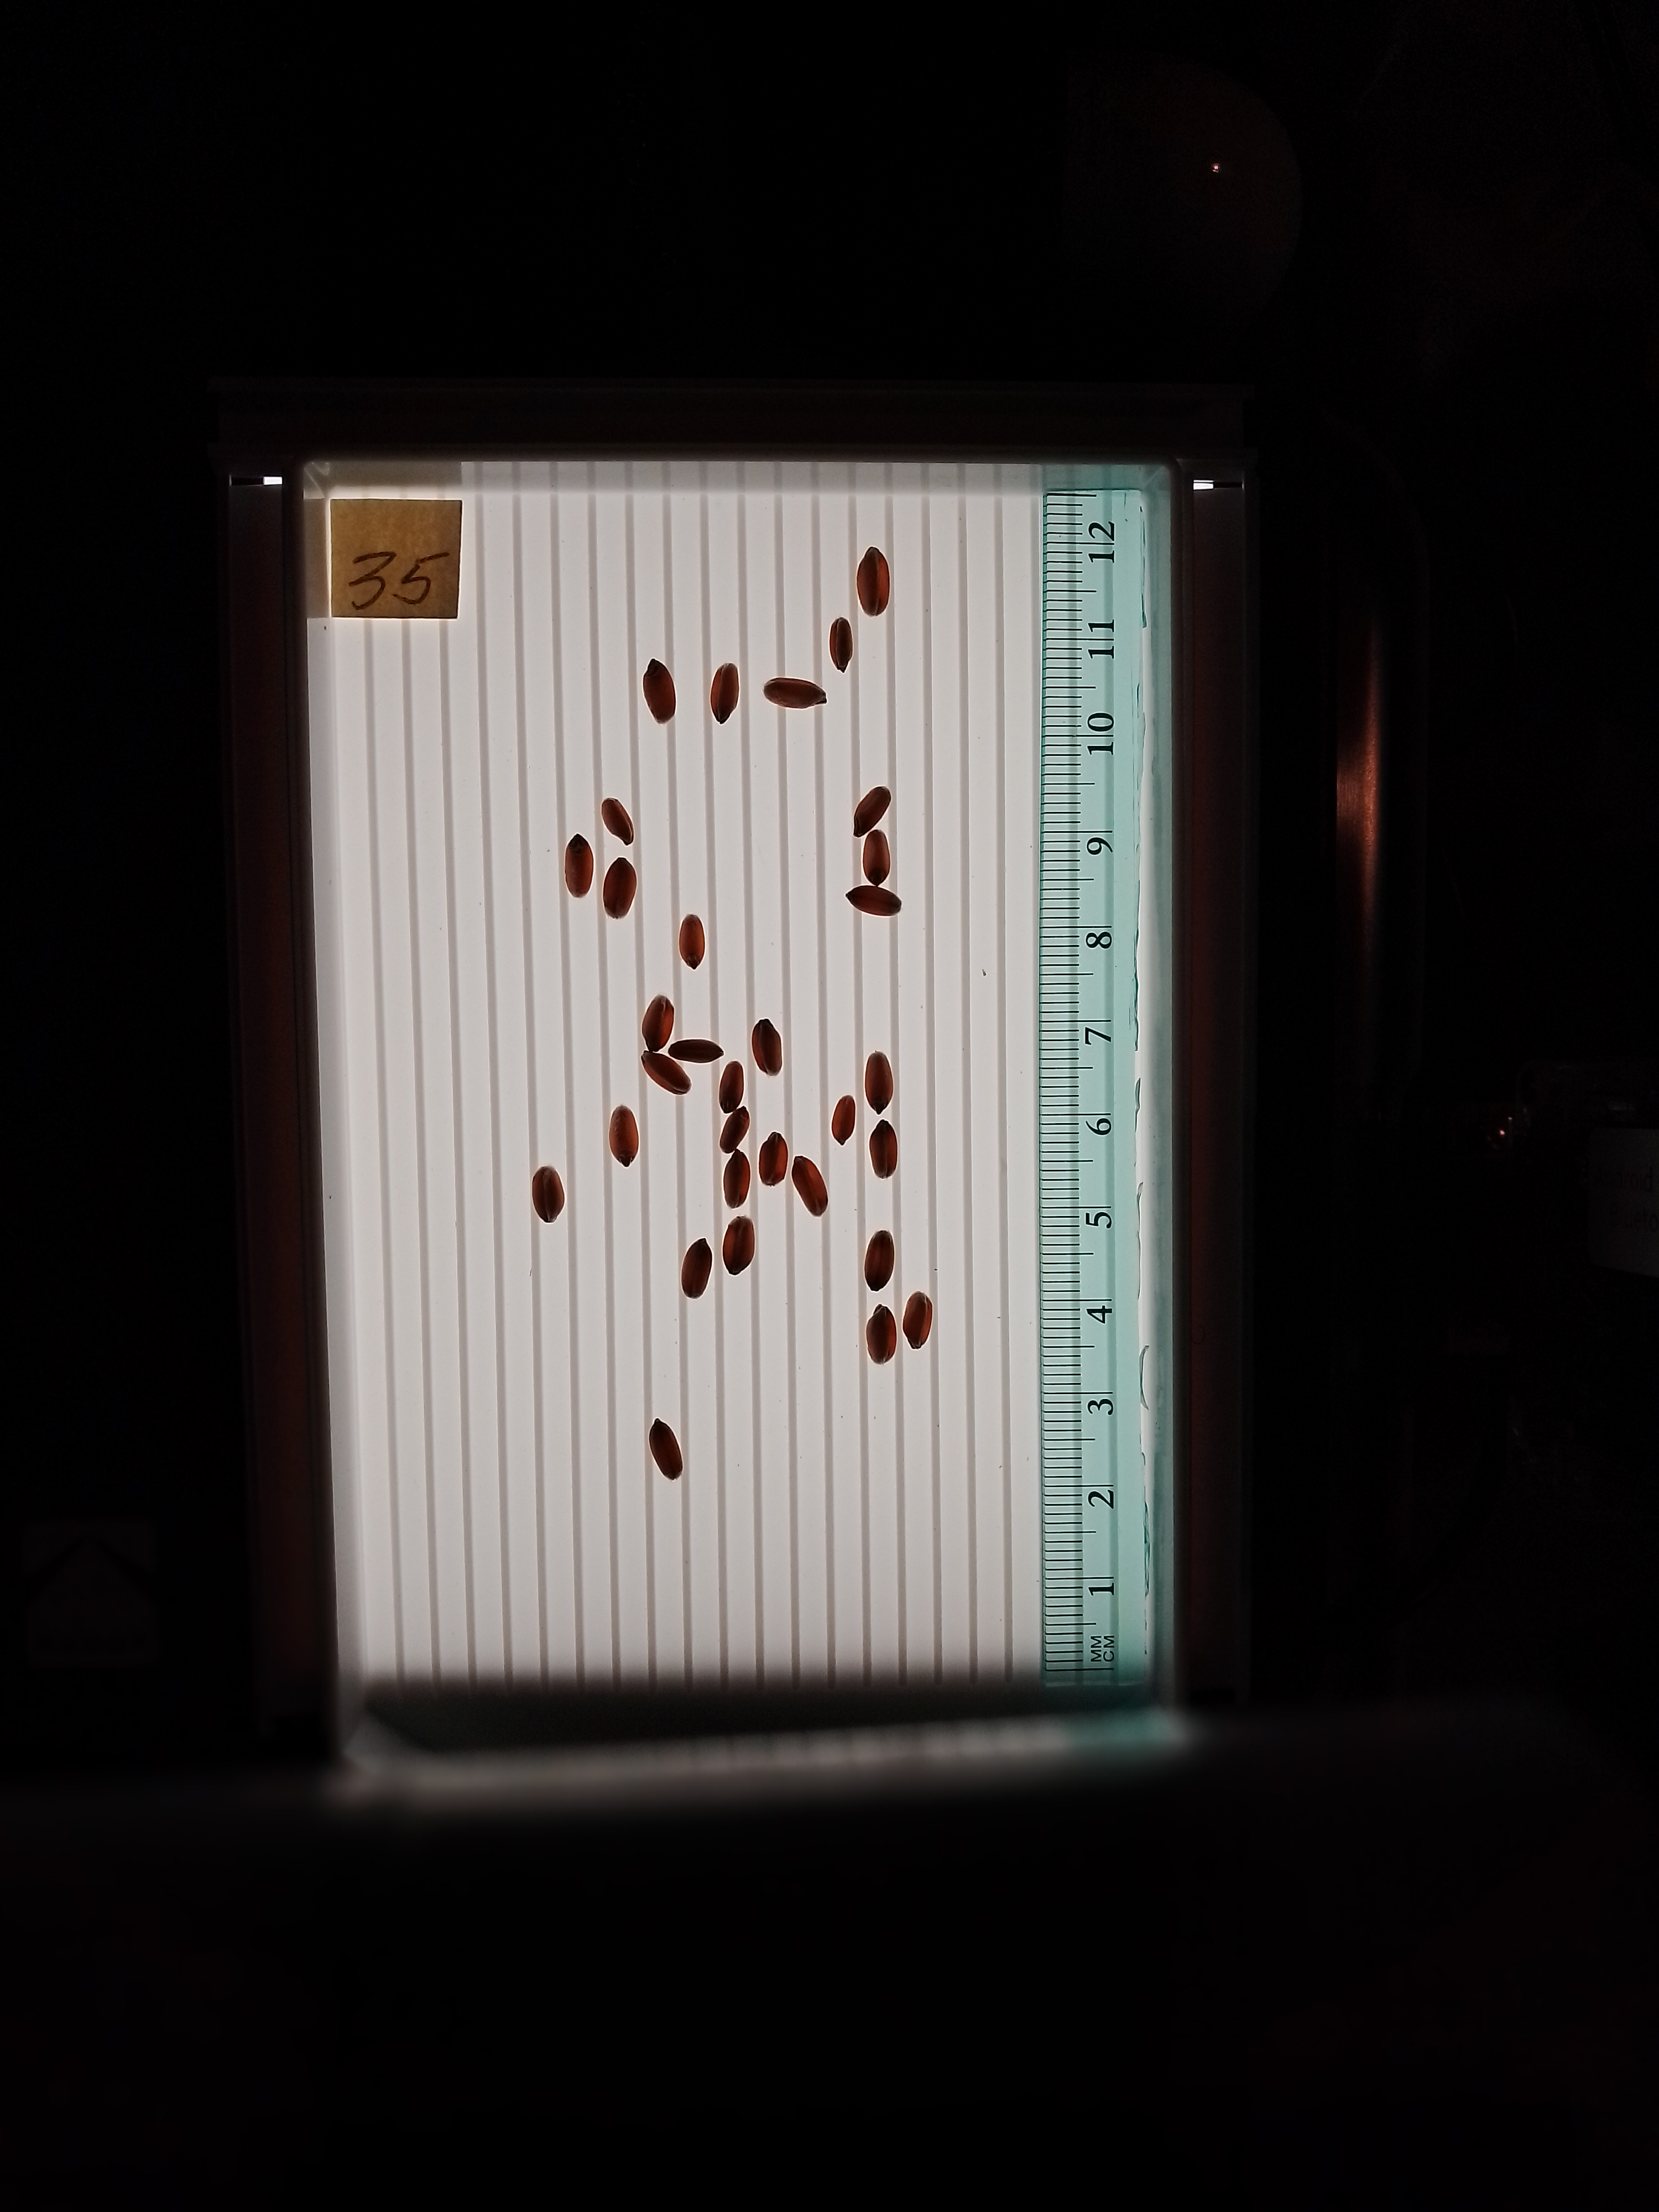seed mask: (856, 547, 890, 618), (641, 658, 676, 725), (640, 1050, 692, 1094), (791, 1157, 828, 1217), (648, 1420, 683, 1480), (603, 857, 636, 920), (762, 678, 828, 709), (532, 1167, 566, 1224), (608, 1106, 640, 1169), (565, 833, 594, 899), (641, 995, 676, 1050), (854, 786, 890, 838), (681, 1238, 713, 1299), (864, 1052, 894, 1115), (866, 1305, 897, 1364), (709, 664, 739, 726), (866, 1230, 896, 1292), (723, 1217, 755, 1275), (751, 1019, 782, 1075), (845, 885, 901, 916), (601, 798, 634, 848), (723, 1150, 751, 1209), (904, 1291, 932, 1350), (870, 1120, 897, 1179), (758, 1132, 788, 1186), (863, 831, 890, 887), (667, 1038, 723, 1064), (720, 1108, 751, 1153), (680, 913, 704, 970), (830, 617, 854, 674), (831, 1096, 856, 1146), (720, 1062, 744, 1113)
